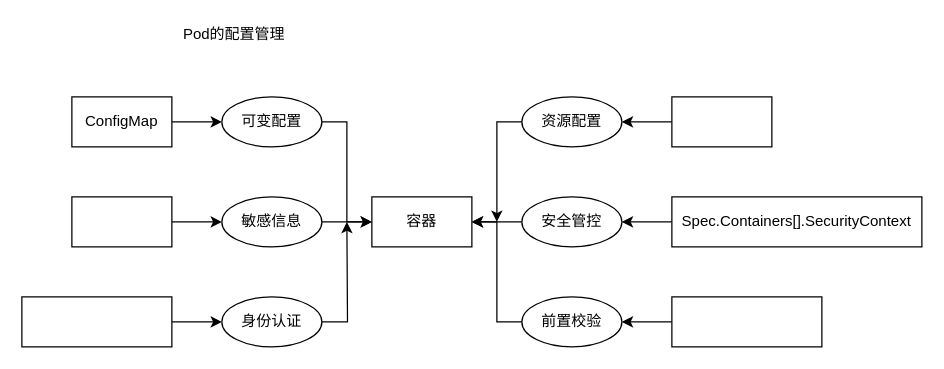
Some shapes in this 944 by 369 pixel diagram are drawn without their labels. Each missing label, with the centre of its shape:
"Secret" goes at point (121, 221).
"ServiceAccount" goes at point (96, 321).
"Spec.InitContainers" goes at point (746, 321).
"请求/约束" goes at point (721, 121).
